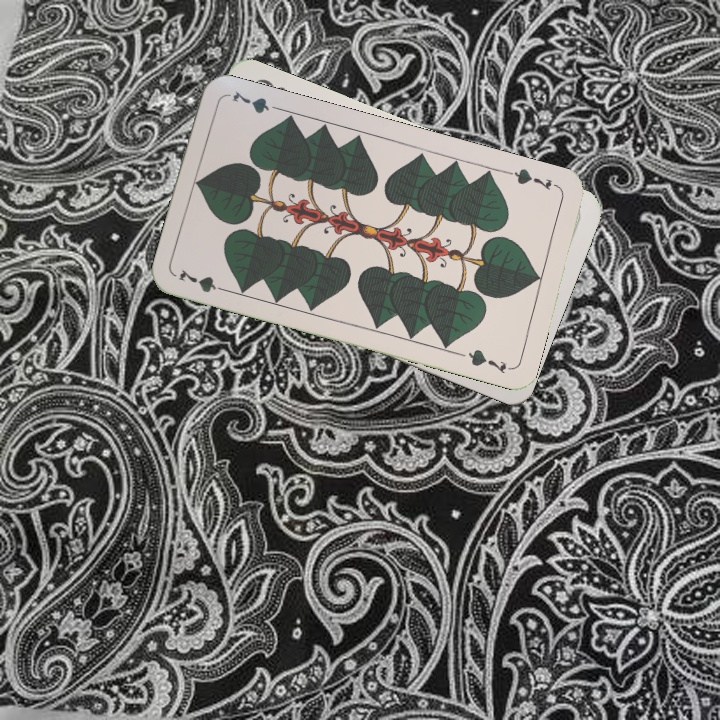G7: (175, 265, 232, 295), (504, 164, 562, 193)
